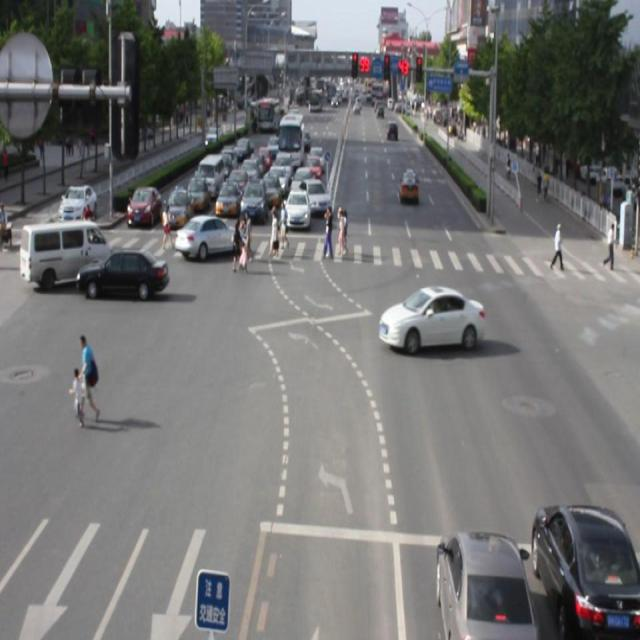car: (523, 495, 640, 640), (429, 524, 530, 640), (379, 281, 485, 354), (76, 245, 169, 300), (175, 215, 245, 259)
